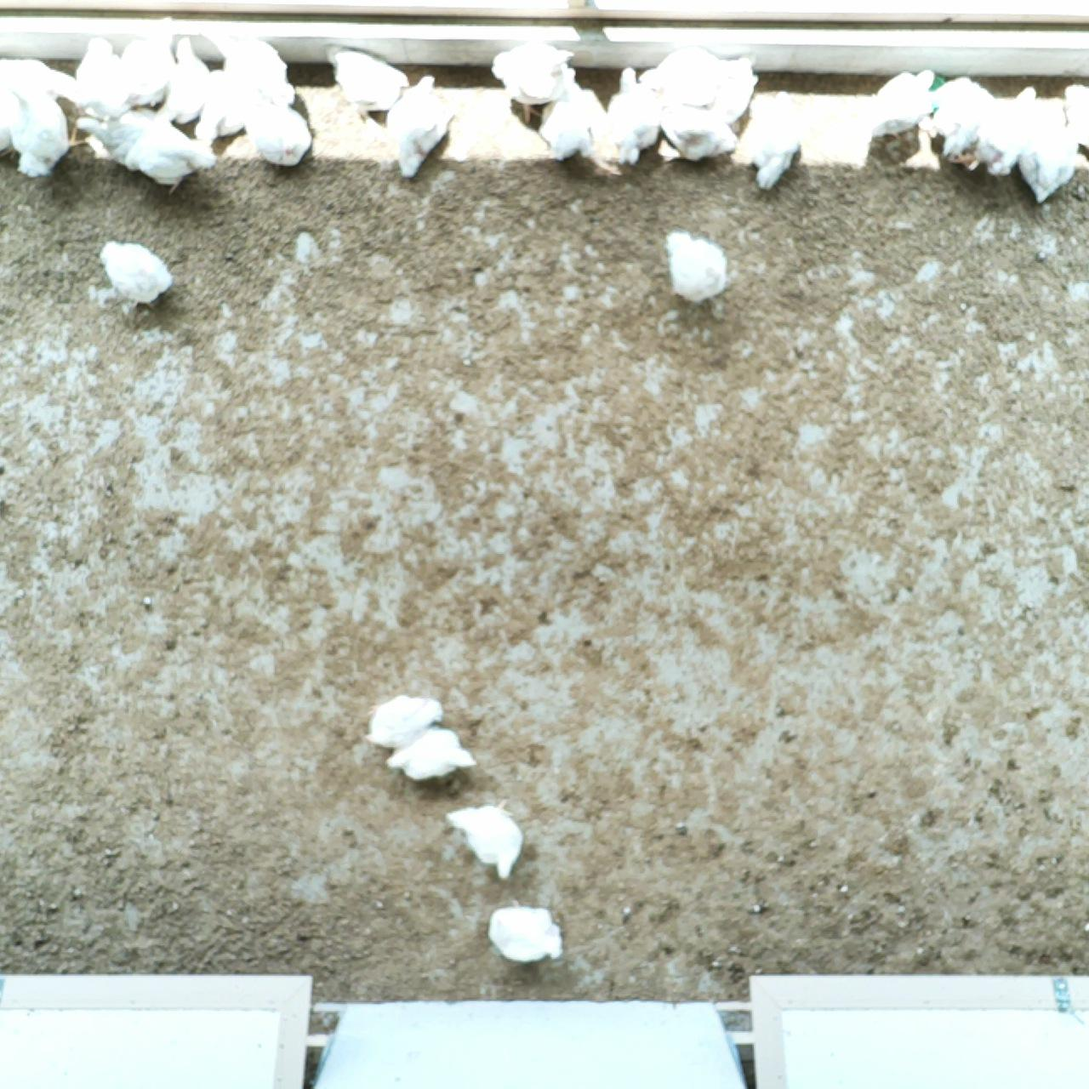chicken: (4, 78, 90, 181), (383, 73, 457, 181), (121, 121, 221, 198), (323, 39, 411, 124), (443, 796, 528, 883), (490, 39, 577, 124), (736, 88, 803, 195), (970, 84, 1041, 183), (1016, 96, 1078, 207), (636, 44, 726, 109), (663, 227, 733, 309), (118, 16, 178, 110), (384, 725, 480, 783), (862, 66, 937, 140), (154, 33, 213, 127), (221, 36, 298, 108), (71, 108, 154, 174), (654, 101, 741, 163), (605, 64, 663, 154), (485, 904, 569, 966), (936, 77, 995, 165), (98, 238, 175, 305), (74, 33, 133, 120), (0, 56, 88, 112), (243, 103, 315, 171), (363, 692, 444, 750), (537, 83, 593, 164), (191, 68, 245, 143), (705, 60, 758, 126), (1062, 80, 1089, 150)
